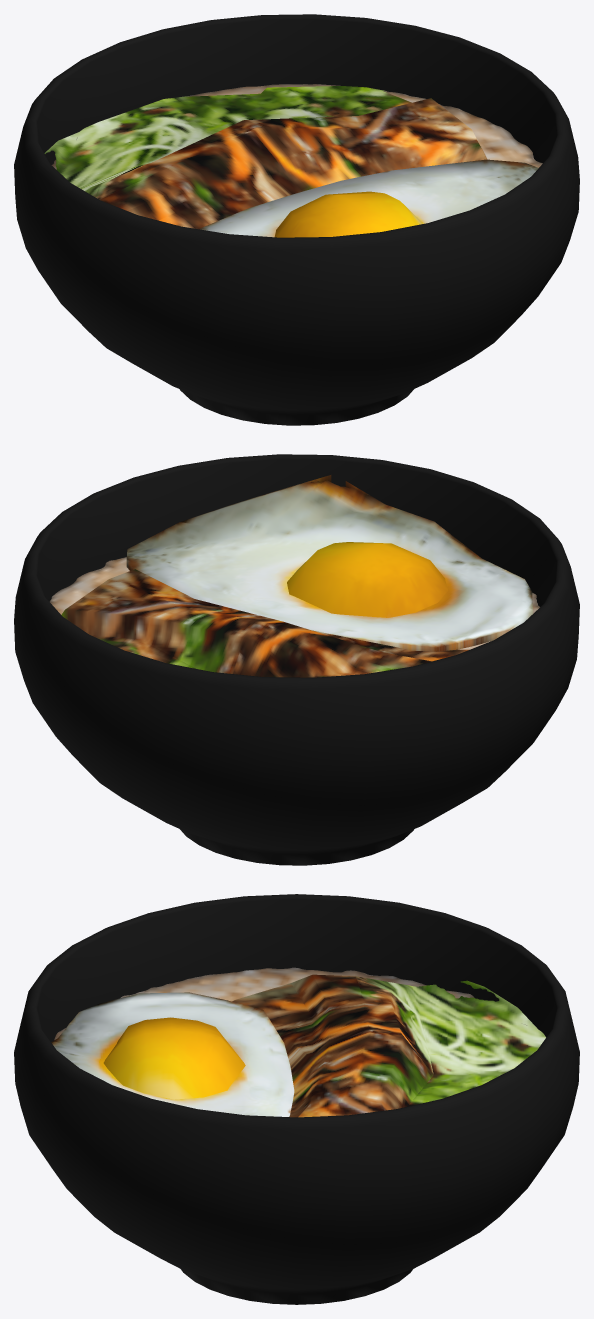
Rendered from 日本食物 (7).fbx.
3 renders of one model, top to bottom at view 1: azimuth 30°, elevation 25°; view 2: azimuth 150°, elevation 25°; view 3: azimuth 270°, elevation 25°, orthographic.
Parts seen in each view (by area): view 1: G_Bowl; view 2: G_Bowl; view 3: G_Bowl.
Boxes of the visible parts, <box> form: G_Bowl: <box>14,14,579,425</box>; G_Bowl: <box>14,454,579,865</box>; G_Bowl: <box>14,894,579,1304</box>.
Bounding box in the file's own units: 0.3667 × 0.1761 × 0.3667.
Materials: 1 (1 with a texture image).
